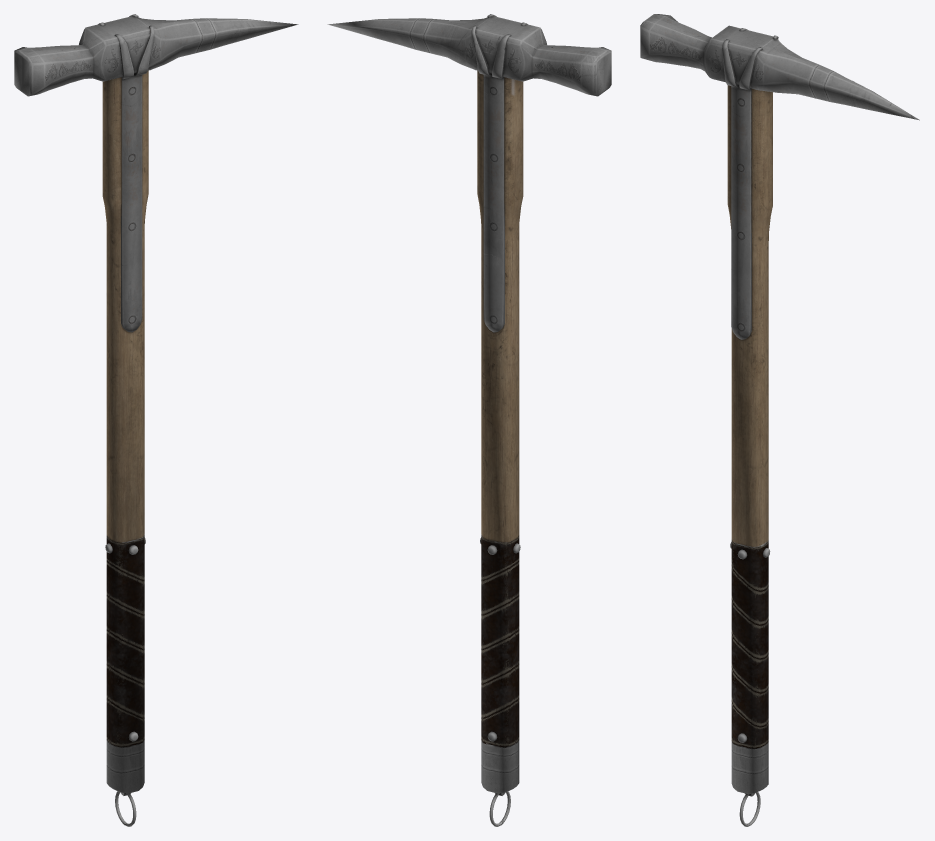
The model's file is SM_Mace_02.fbx.
3 views of the same model, side by side, from view 1: azimuth 30°, elevation 25°; view 2: azimuth 150°, elevation 25°; view 3: azimuth 330°, elevation 25° (orthographic).
Visible parts, largest first — view 1: SM_Mace_02_LOD0; view 2: SM_Mace_02_LOD0; view 3: SM_Mace_02_LOD0.
Part boxes in pixels (x1,y1,x2,y2): SM_Mace_02_LOD0: (14, 14, 298, 826); SM_Mace_02_LOD0: (327, 14, 611, 826); SM_Mace_02_LOD0: (640, 14, 919, 826).
Size of the model in its own units: 33.65 by 5.07 by 92.92.
1 material, 1 textured.
